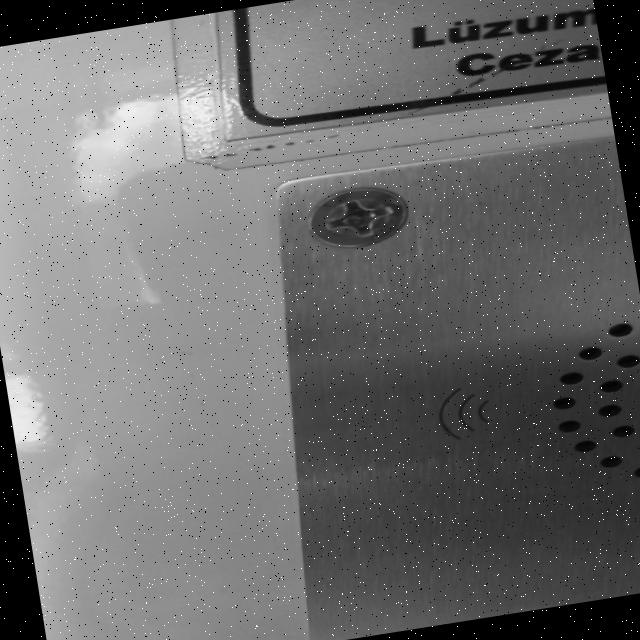Phillips: (304, 186, 414, 252)
